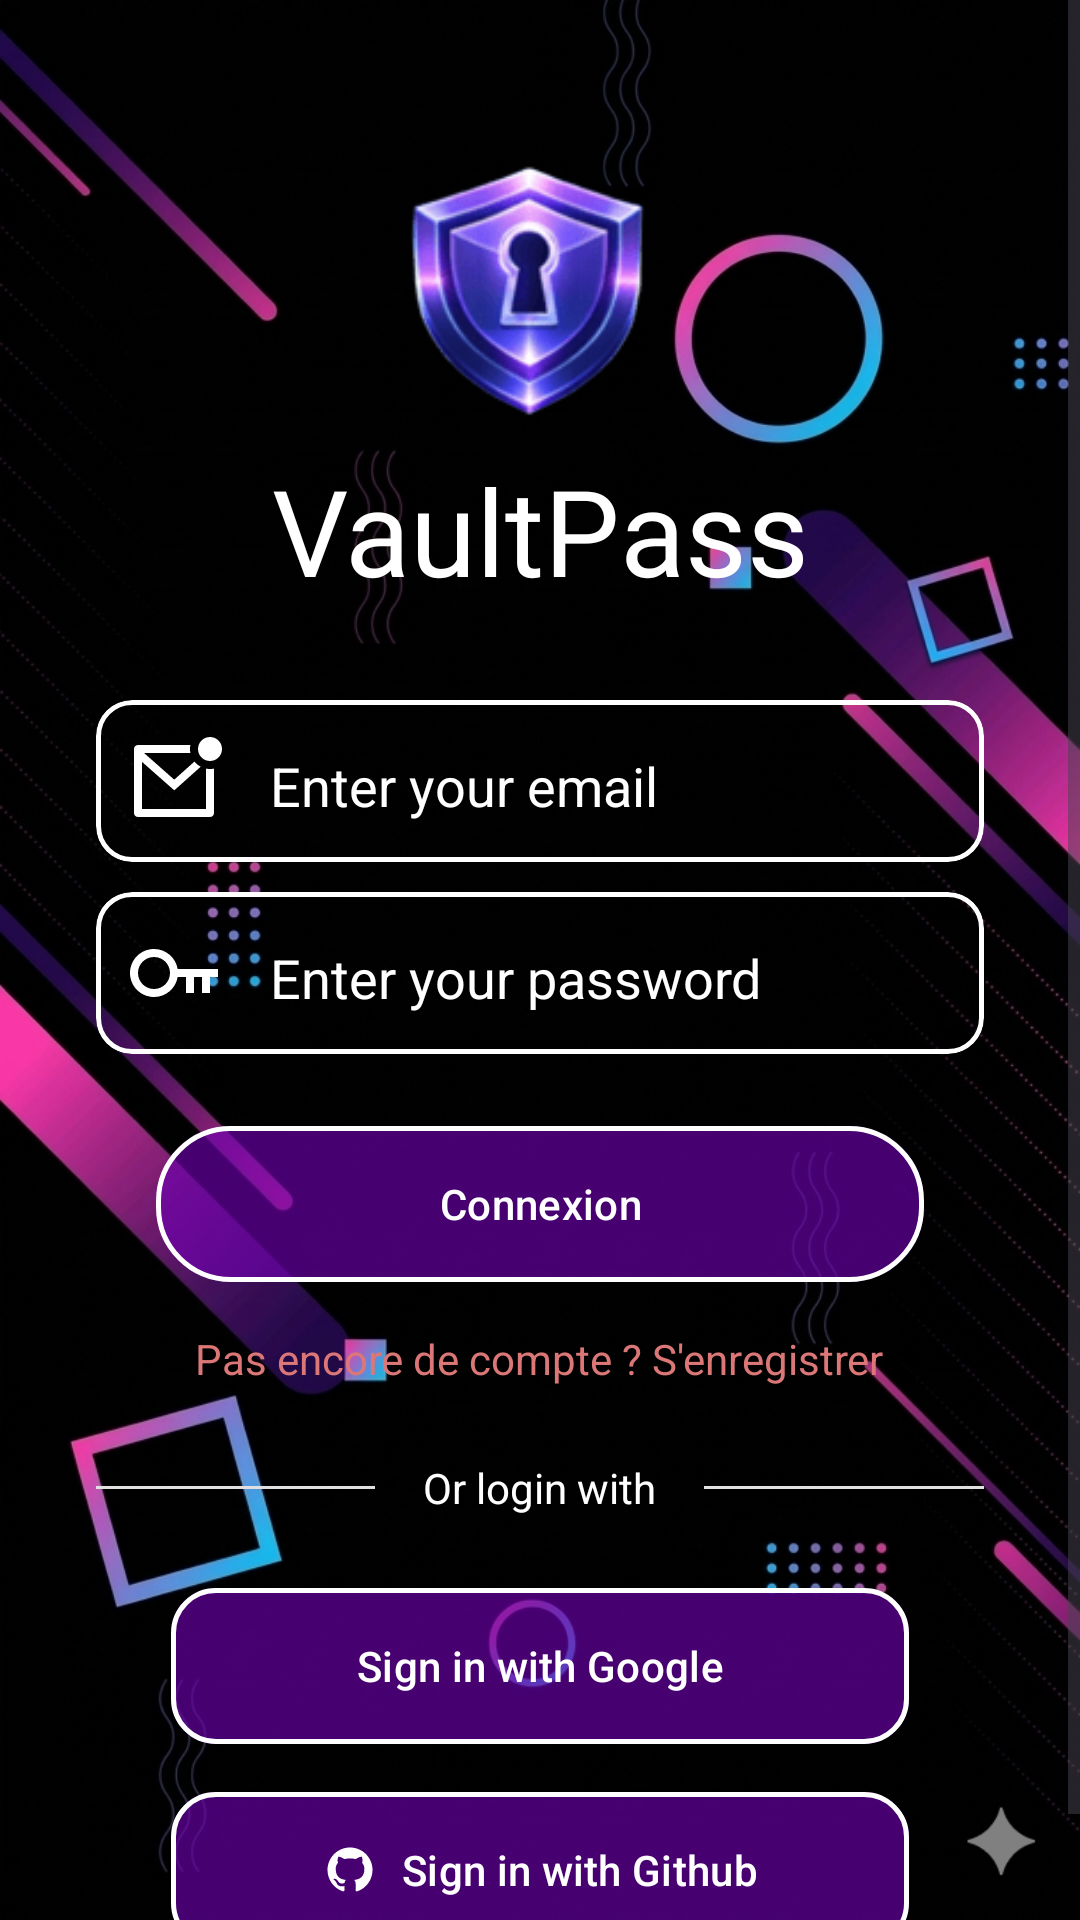

Icon bounding boxes for this 1080px x 1920px phone screenshot, format (x1, y1, x2, y2):
key line: (130, 929, 220, 997)
mail unread line: (134, 737, 222, 817)
